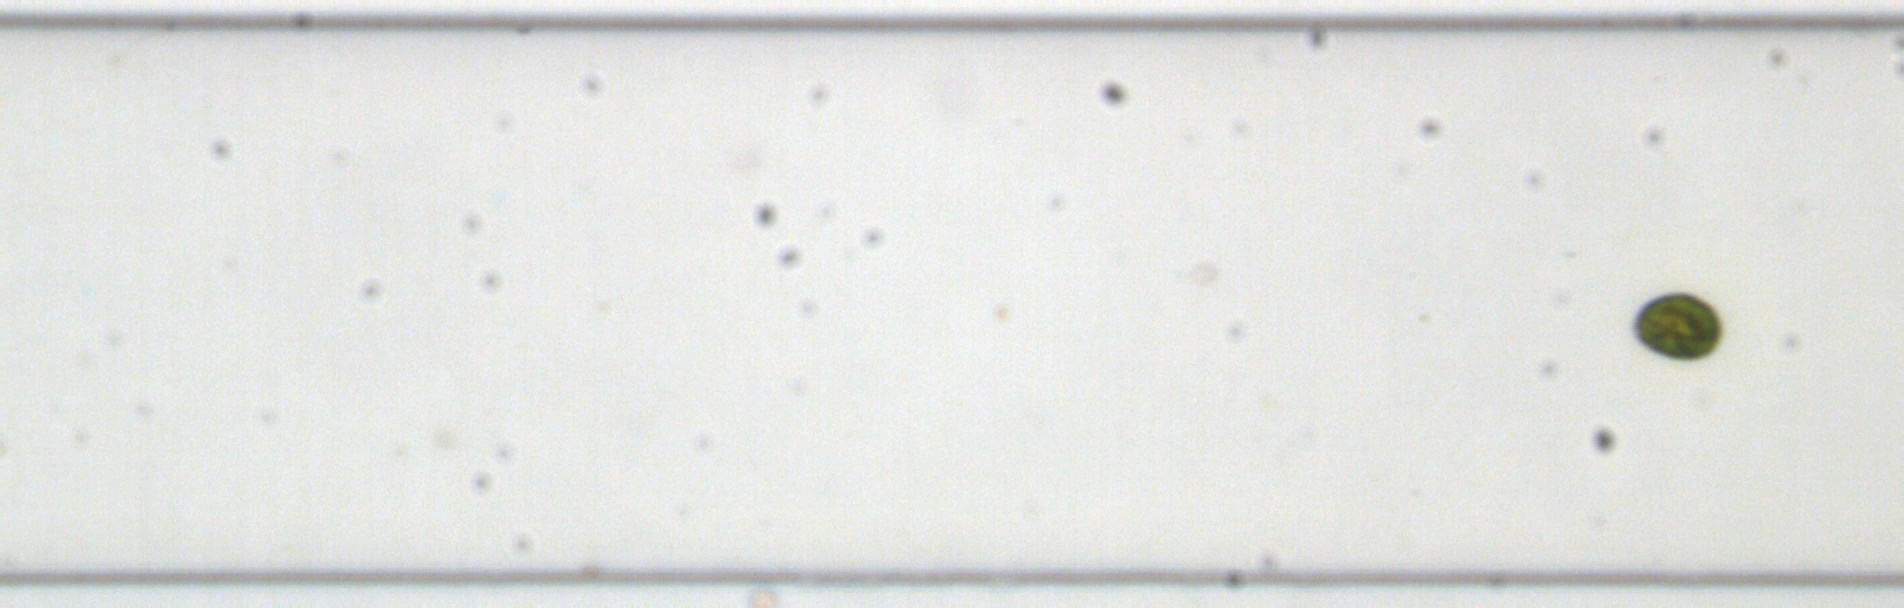Haematococcus: (1628, 286, 1724, 366)
